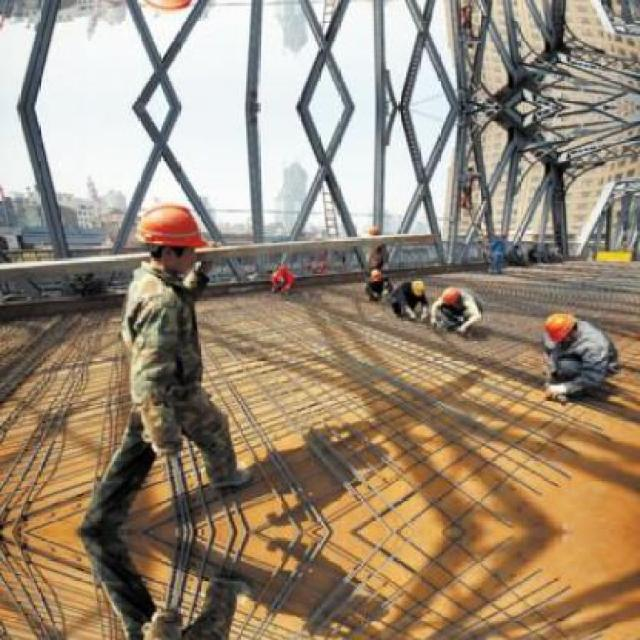helmet: (134, 196, 208, 276), (133, 0, 209, 18), (542, 310, 578, 342), (437, 284, 461, 307), (408, 275, 426, 297)
